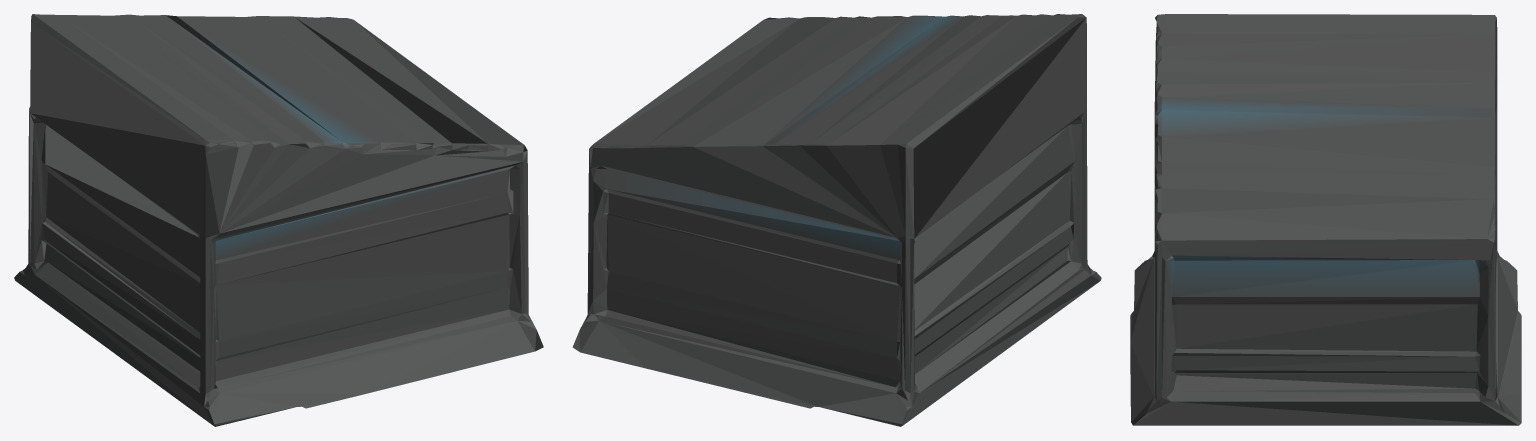
File: Skyscrapers(3).glb
3 renders of one model, left to right at view 1: azimuth 30°, elevation 25°; view 2: azimuth 150°, elevation 25°; view 3: azimuth 270°, elevation 25°, orthographic. The views are drawn at different scales.
Visible parts, largest first — view 1: Root; view 2: Root; view 3: Root.
Part boxes in pixels (x1=…): Root: x1=14, y1=14, x2=543, y2=426; Root: x1=572, y1=14, x2=1101, y2=426; Root: x1=1130, y1=14, x2=1521, y2=425.
Size of the model in its own units: 4.62 by 3.7 by 4.98.
